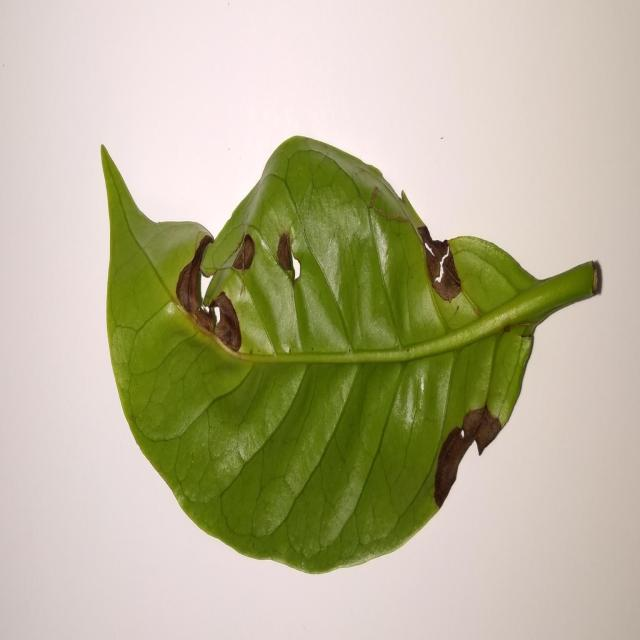phoma: (176, 234, 241, 353), (433, 405, 502, 508), (417, 226, 461, 302), (277, 231, 302, 282), (232, 234, 255, 271)
